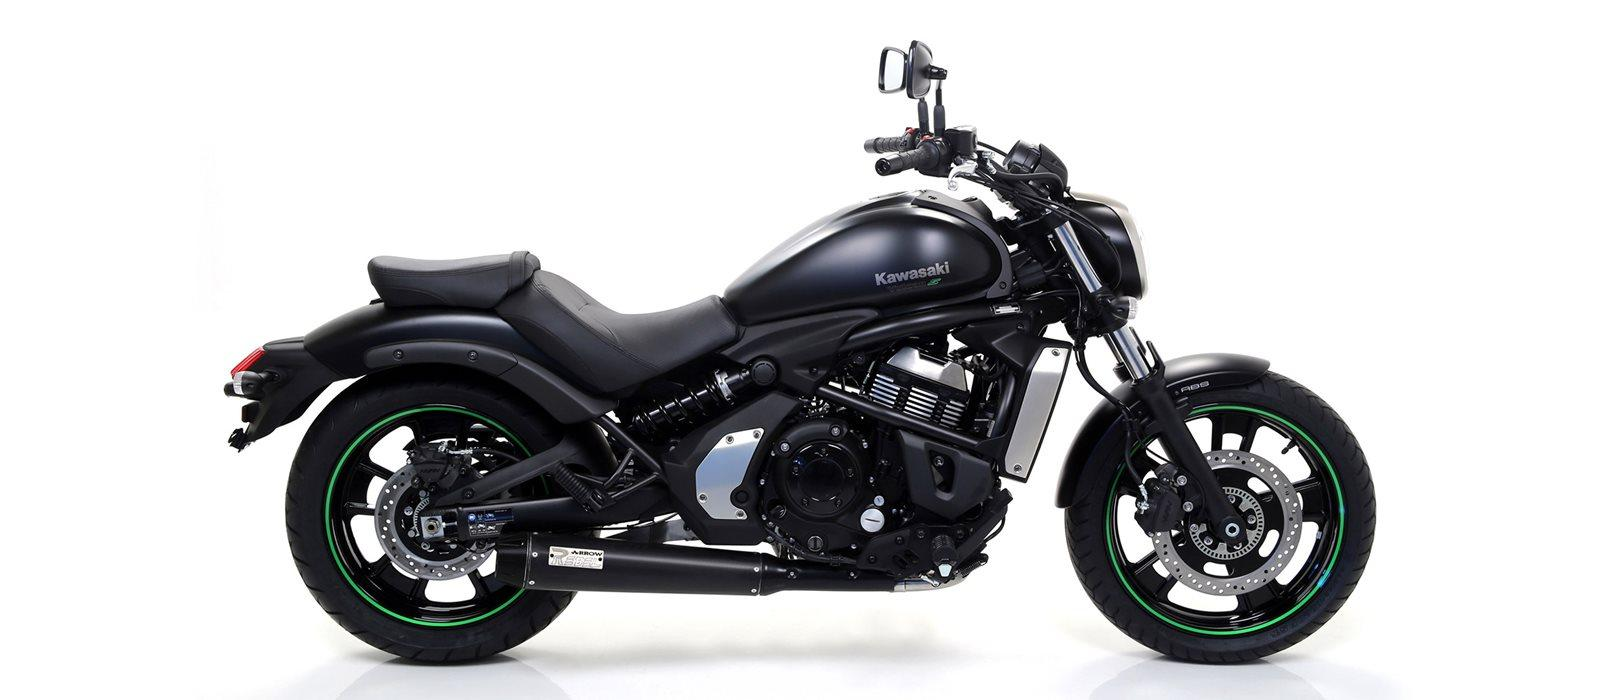engine-chasis: (660, 292, 1023, 587), (614, 357, 779, 447)
exhaust: (494, 518, 967, 597)
frontside: (951, 185, 1271, 546)
handlebar: (863, 40, 1068, 217)
motorbike: (224, 39, 1378, 662)
rearside: (222, 297, 779, 544)
seat: (366, 250, 738, 394)
tank: (721, 188, 1013, 327)
wheel: (1063, 369, 1378, 664), (285, 364, 579, 663), (1065, 273, 1181, 500)
